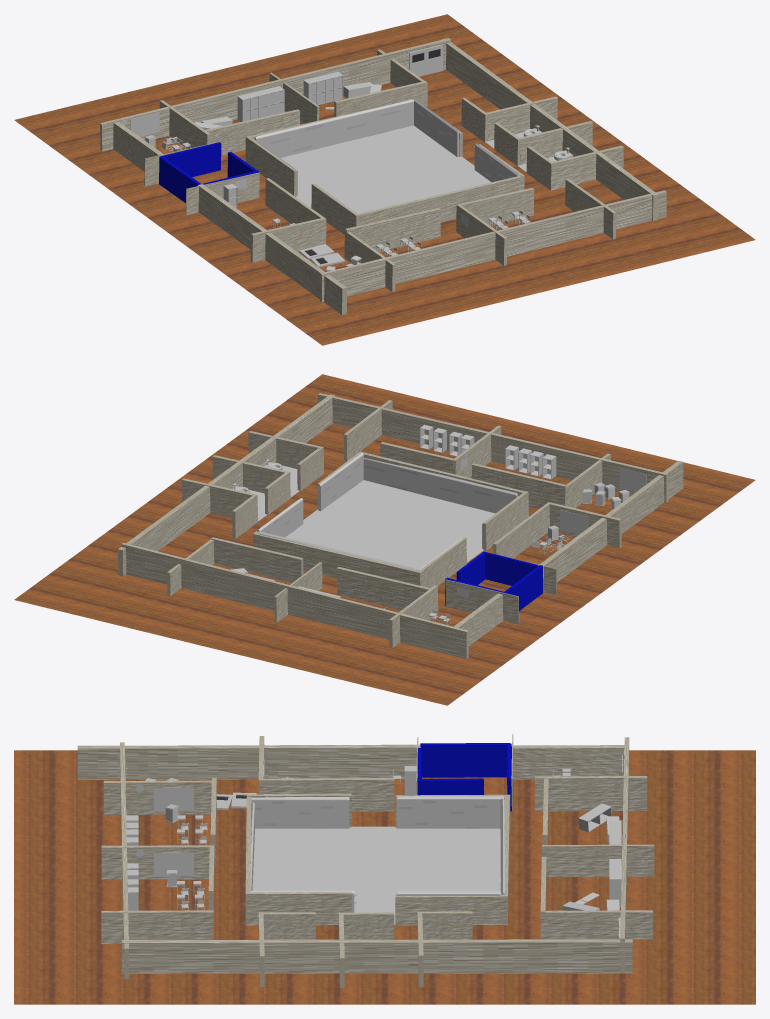
File: mmap.obj
3 views of the same model, one above another, from view 1: azimuth 30°, elevation 25°; view 2: azimuth 150°, elevation 25°; view 3: azimuth 270°, elevation 25° (orthographic). The views are drawn at different scales.
Visible parts, largest first — view 1: floor, grass, Cube.001, Cube.004, Cube.003, Cube.025, HEDGE.006, Cube.017, Cube.038, Cube.040, Cube.012, Cube.006 (+23 smaller); view 2: floor, grass, Cube.004, Cube.001, Cube.003, Cube.025, HEDGE.005, Cube.018, Cube.041, Cube.040, Cube.038, Cube.010 (+25 smaller); view 3: floor, Cube.003, grass, Cube.025, Cube.008, Cube, HEDGE.002, Cube.014, Cube.007, Cube.013, HEDGE.007, Cube.023 (+19 smaller).
Boxes of the visible parts, <box> form: floor: <box>14,14,755,345</box>; grass: <box>280,125,491,213</box>; Cube.001: <box>320,190,666,302</box>; Cube.004: <box>100,38,450,151</box>; Cube.003: <box>441,38,658,220</box>; Cube.025: <box>197,184,347,314</box>; HEDGE.006: <box>254,99,413,157</box>; Cube.017: <box>358,176,524,225</box>; Cube.038: <box>345,208,440,251</box>; Cube.040: <box>205,109,299,155</box>; Cube.012: <box>250,217,326,262</box>; Cube.006: <box>549,145,623,190</box>; floor: <box>14,374,755,705</box>; grass: <box>285,480,495,570</box>; Cube.004: <box>121,542,468,658</box>; Cube.001: <box>318,393,668,502</box>; Cube.003: <box>118,394,335,576</box>; Cube.025: <box>538,460,683,592</box>; HEDGE.005: <box>363,458,517,513</box>; Cube.018: <box>253,532,419,584</box>; Cube.041: <box>211,537,303,582</box>; Cube.040: <box>336,567,430,610</box>; Cube.038: <box>472,463,566,508</box>; Cube.010: <box>445,579,519,624</box>; floor: <box>14,750,755,1004</box>; Cube.003: <box>122,939,632,973</box>; grass: <box>252,826,507,924</box>; Cube.025: <box>77,744,420,779</box>; Cube.008: <box>535,776,647,811</box>; Cube: <box>513,745,624,779</box>; HEDGE.002: <box>396,796,504,828</box>; Cube.014: <box>101,910,213,943</box>; Cube.007: <box>542,844,654,876</box>; Cube.013: <box>540,910,652,939</box>; HEDGE.007: <box>251,797,351,828</box>; Cube.023: <box>420,743,510,777</box>.
Bounding box in the file's own units: 97.19 × 8.16 × 120.
